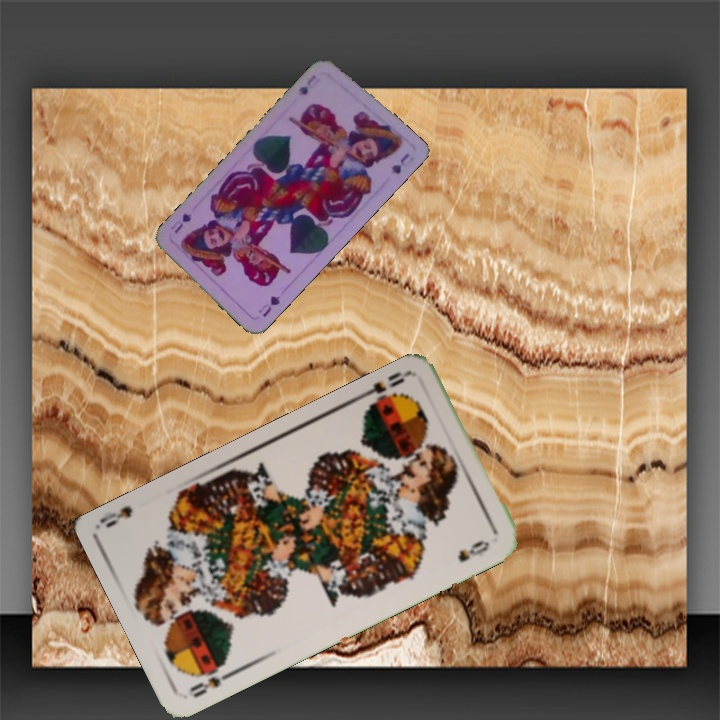GU: (254, 291, 283, 320), (294, 71, 323, 98)
SO: (358, 366, 416, 411), (185, 666, 238, 701)
